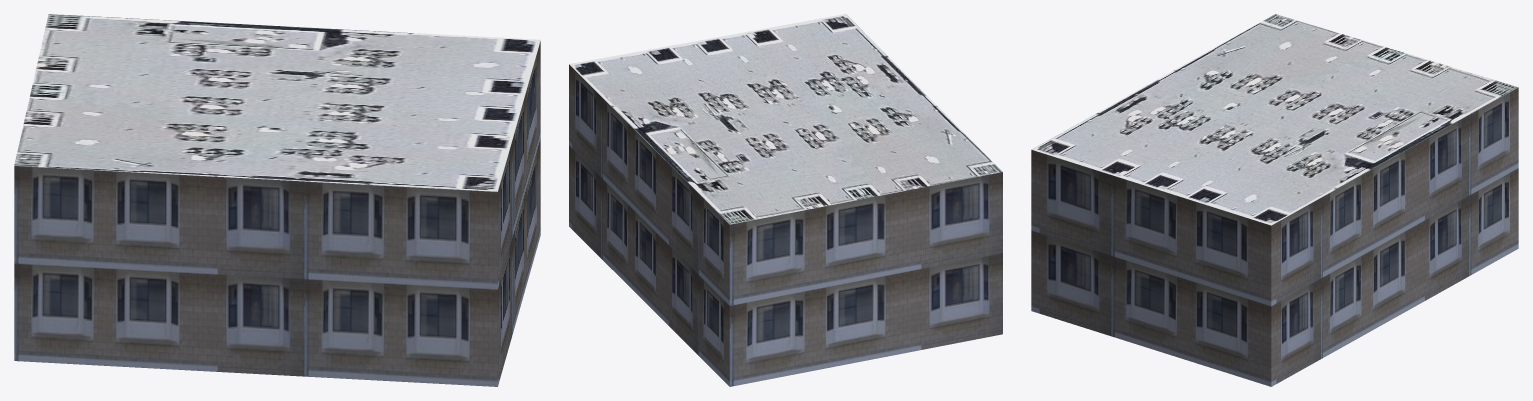
File: ResTex__2000.fbx
The picture shows the model from 3 angles, left to right: view 1: azimuth 30°, elevation 25°; view 2: azimuth 150°, elevation 25°; view 3: azimuth 270°, elevation 25°; orthographic projection. The views are drawn at different scales.
Visible parts, largest first — view 1: CityEngineMaterial_3_m, CityEngineMaterial_2_m; view 2: CityEngineMaterial_3_m, CityEngineMaterial_2_m; view 3: CityEngineMaterial_3_m, CityEngineMaterial_2_m.
Part boxes in pixels (box(x1,y1,x2,y2)): CityEngineMaterial_3_m: box(14, 41, 540, 386); CityEngineMaterial_2_m: box(14, 14, 540, 191); CityEngineMaterial_3_m: box(569, 64, 1002, 386); CityEngineMaterial_2_m: box(569, 14, 1002, 224); CityEngineMaterial_3_m: box(1031, 87, 1518, 386); CityEngineMaterial_2_m: box(1031, 14, 1518, 225).
Bounding box in the file's own units: 16.87 × 6 × 16.42.
2 materials, 2 textured.
